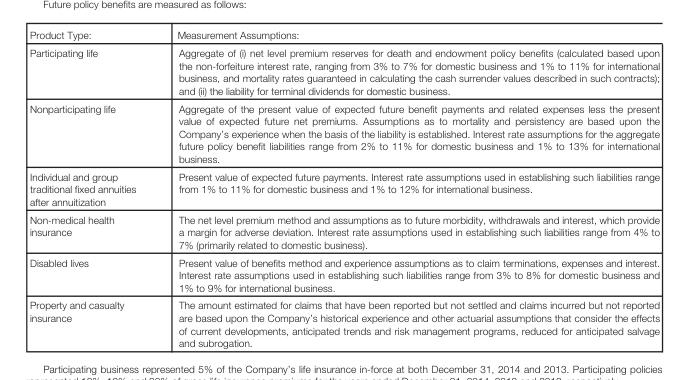table: (28, 28, 659, 348)
table column: (156, 28, 659, 348), (28, 28, 156, 348)
table column header: (28, 28, 659, 43)
table row: (28, 98, 659, 167), (28, 43, 659, 98), (28, 295, 659, 348), (28, 209, 659, 252), (28, 252, 659, 295), (28, 167, 659, 209), (28, 28, 659, 43)
